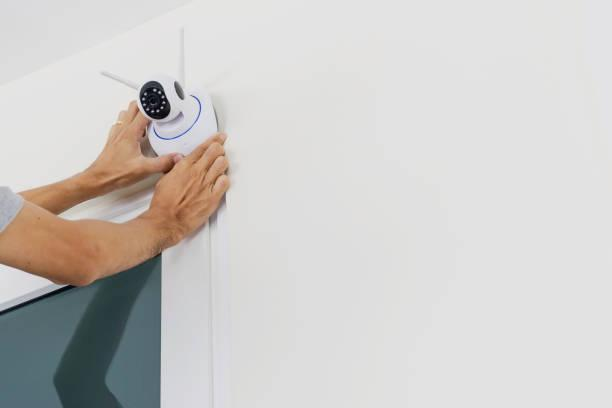camera: (125, 62, 192, 139)
